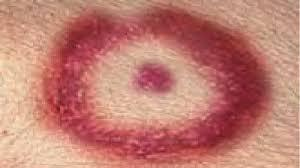Tick: (46, 13, 261, 157)
